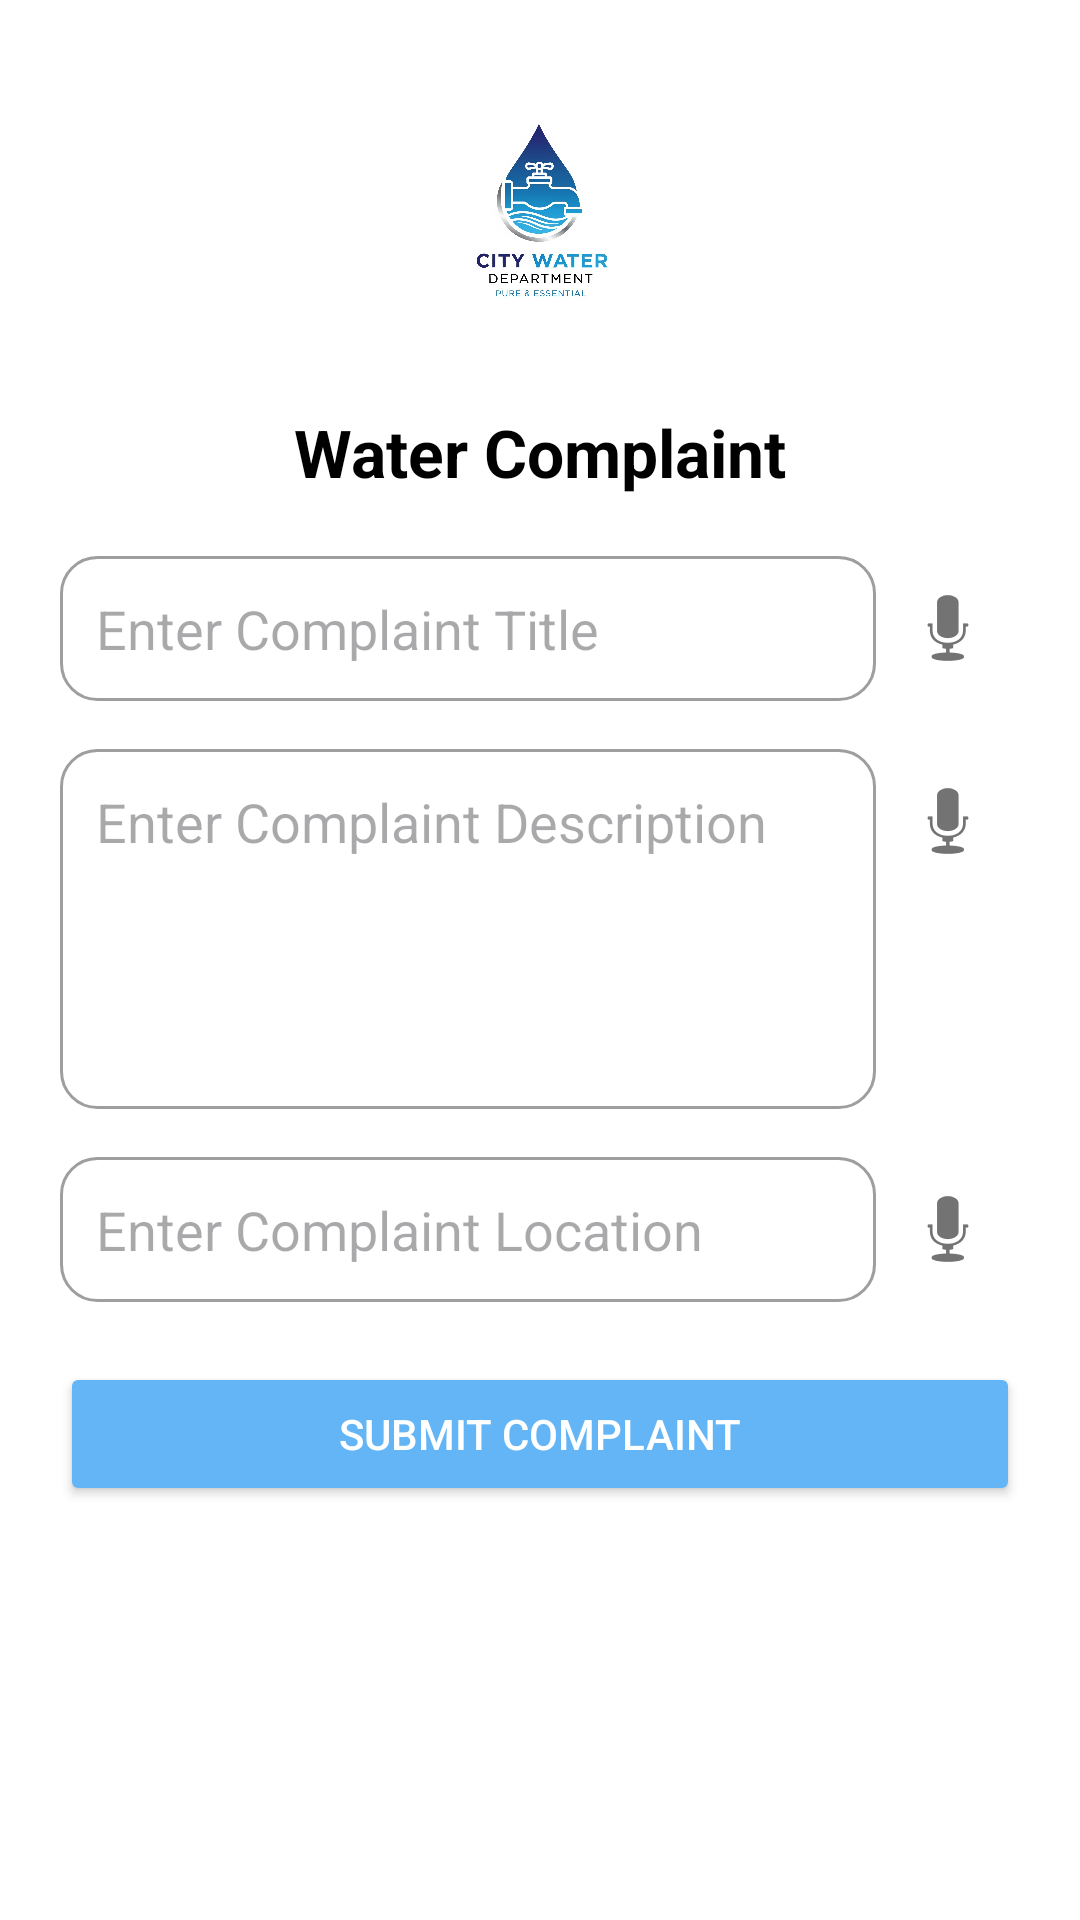

Locate icon controls on the screen. Image size 1080 × 1920, boxes as {"left": x1, "top": y1, "right": x2, "bottom": y2}.
Voice input for description: {"left": 927, "top": 788, "right": 969, "bottom": 854}
Voice input for location: {"left": 927, "top": 1196, "right": 969, "bottom": 1262}
Voice input for title: {"left": 927, "top": 595, "right": 969, "bottom": 661}
